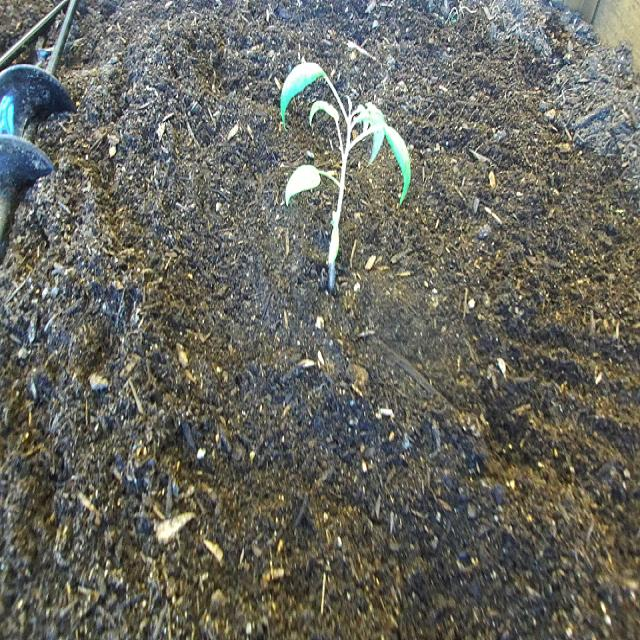Healthy: (264, 35, 424, 320)
